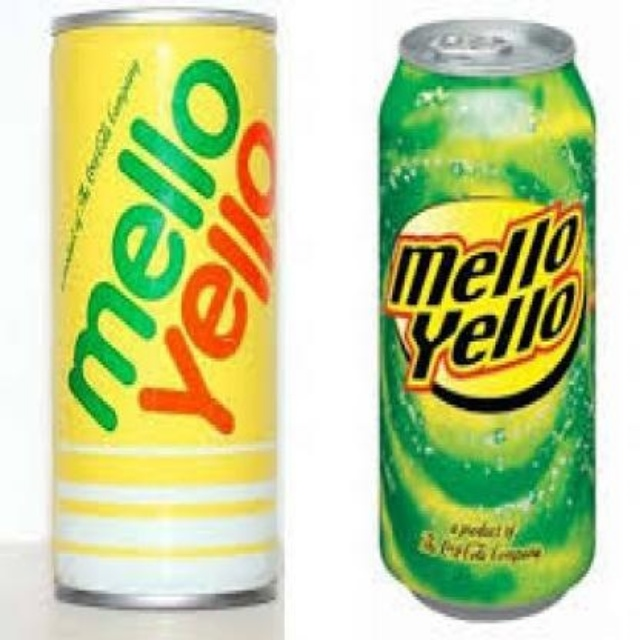trash: (52, 8, 275, 606), (380, 20, 594, 617)
